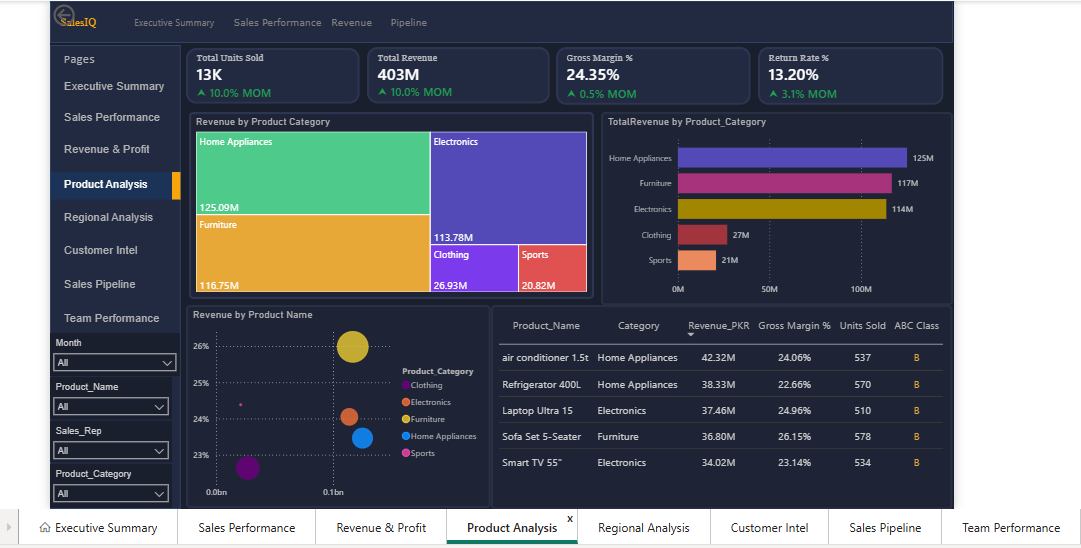

The page's visual inventory and layout, read from the dashboard file:
{"tool":"powerbi","page":{"name":"Product Analysis","canvas":[1280,720],"ordinal":3},"visuals":[{"type":"shape","box":[0,0,1279.8,59.5],"z":0,"group":"g10"},{"type":"shape","box":[0,62,185,657.6],"z":0,"group":"g9"},{"type":"cardVisual","title":"Total Revenue ","fields":{"Data":["Table1.Total Units Sold"]},"box":[192.8,66.6,246.6,79.4],"z":0},{"type":"actionButton","box":[0,103.3,185,39.4],"z":0,"group":"g1"},{"type":"actionButton","box":[0,146.7,185,39.4],"z":0,"group":"g2"},{"type":"actionButton","box":[0,192,186,37.3],"z":0,"group":"g3"},{"type":"actionButton","box":[0,242.2,185,39.4],"z":0,"group":"g4"},{"type":"actionButton","box":[0,289.4,185,39.4],"z":0,"group":"g5"},{"type":"actionButton","box":[0,336.2,185,39.4],"z":0,"group":"g6"},{"type":"actionButton","box":[0,383.7,185,39.4],"z":0,"group":"g8"},{"type":"actionButton","box":[0,431.3,185,39.4],"z":0,"group":"g7"},{"type":"actionButton","box":[109,6.9,134,45.8],"z":1000,"group":"g10"},{"type":"group","id":"g1","title":"Executive summary 1","box":[0,103.3,185,39.4],"z":1000,"group":"g9"},{"type":"slicer","fields":{"Values":["Calendar.Month"]},"box":[1169.3,219.7,86.5,48.2],"z":1000},{"type":"shape","box":[173,242.2,12,39.4],"z":1000,"group":"g4"},{"type":"actionButton","box":[255,6.9,135,45.8],"z":2000,"group":"g10"},{"type":"cardVisual","title":"Total Revenue ","fields":{"Data":["Table1.Total Revenue"]},"box":[449.3,65.2,259.4,80.8],"z":2000},{"type":"group","id":"g2","title":"Executive summary 1","box":[0,146.7,185,39.4],"z":2000,"group":"g9"},{"type":"actionButton","box":[390,6.9,76,45.8],"z":3000,"group":"g10"},{"type":"cardVisual","title":"Total Revenue ","fields":{"Data":["Table1.Return Rate %"]},"box":[1003,65,263,82.2],"z":3000},{"type":"group","id":"g3","title":"Executive summary 1","box":[0,192,186,37.3],"z":3000,"group":"g9"},{"type":"actionButton","box":[465.9,6.9,85,45.8],"z":4000,"group":"g10"},{"type":"cardVisual","title":"Total Revenue ","fields":{"Data":["Table1.Gross Margin %"]},"box":[717,65.2,276.4,82.2],"z":4000},{"type":"group","id":"g4","title":"Executive summary 1","box":[0,242.2,185,39.4],"z":4000,"group":"g9"},{"type":"treemap","title":"Revenue by Product Category","fields":{"Group":["Table1.Product_Category"],"Values":["Sum(Table1.Revenue_PKR)"]},"box":[197.5,157.1,573.7,265.2],"z":5000},{"type":"group","id":"g5","title":"Executive summary 1","box":[0,289.4,185,39.4],"z":5000,"group":"g9"},{"type":"group","id":"g6","title":"Executive summary 1","box":[0,336.2,185,39.4],"z":6000,"group":"g9"},{"type":"scatterChart","title":"Revenue by Product Name","fields":{"X":["Sum(Table1.Revenue_PKR)"],"Y":["Table1.Gross Margin %"],"Size":["Sum(Table1.Quantity)"],"Series":["Table1.Product_Category"]},"box":[193.2,431,432.4,288.3],"z":6000},{"type":"slicer","fields":{"Values":["Table1.Region"]},"box":[1097,3,172.9,48.2],"z":7000},{"type":"group","id":"g7","title":"Executive summary 1","box":[0,431.3,185,39.4],"z":7000,"group":"g9"},{"type":"slicer","fields":{"Values":["Table1.Product_Category"]},"box":[914.2,3,172.9,49.6],"z":8000},{"type":"group","id":"g8","title":"Executive summary 1","box":[0,383.7,185,39.4],"z":8000,"group":"g9"},{"type":"slicer","fields":{"Values":["Calendar.Month"]},"box":[725.7,3,172.9,49.6],"z":9000},{"type":"group","id":"g9","title":"1 side bar","box":[0,62,186,657.6],"z":10000},{"type":"group","id":"g10","title":"1 Header","box":[0,0,1280,59.1],"z":11000},{"type":"slicer","fields":{"Values":["Calendar.Month"]},"box":[0,470.6,184.3,60.9],"z":12000},{"type":"slicer","fields":{"Values":["Table1.Sales_Rep"]},"box":[0,595.3,172.9,58.1],"z":13000},{"type":"clusteredBarChart","fields":{"Category":["Table1.Product_Category"],"Y":["Sum(Table1.Revenue_PKR)"]},"box":[781.3,157.1,498.7,273.9],"z":14000},{"type":"slicer","fields":{"Values":["Table1.Product_Category"]},"box":[0,656.2,172.9,62.4],"z":15000},{"type":"actionButton","box":[0,0,100,40],"z":16000},{"type":"tableEx","fields":{"Values":["Table1.Product_Name","Table1.Product_Category","Sum(Table1.Revenue_PKR)","Table1.Gross Margin %","Table1.Total Units Sold","Table1.ABC Class"]},"box":[625.6,431,654.4,289.7],"z":17000},{"type":"slicer","fields":{"Values":["Table1.Product_Name"]},"box":[0,532.9,172.9,59.5],"z":18000}]}

Visuals, with their boxes on the page's 1280x720 design canvas (x1, y1, x2, y2). These are canvas units, not pixel positions in the 1081x548 screenshot, which may show the page scaled, cropped or inside an application window:
shape: locate(0, 0, 1280, 60)
shape: locate(0, 62, 185, 720)
"Total Revenue " cardVisual: locate(193, 67, 439, 146)
actionButton: locate(0, 103, 185, 143)
actionButton: locate(0, 147, 185, 186)
actionButton: locate(0, 192, 186, 229)
actionButton: locate(0, 242, 185, 282)
actionButton: locate(0, 289, 185, 329)
actionButton: locate(0, 336, 185, 376)
actionButton: locate(0, 384, 185, 423)
actionButton: locate(0, 431, 185, 471)
actionButton: locate(109, 7, 243, 53)
"Executive summary 1" group: locate(0, 103, 185, 143)
slicer - Calendar.Month: locate(1169, 220, 1256, 268)
shape: locate(173, 242, 185, 282)
actionButton: locate(255, 7, 390, 53)
"Total Revenue " cardVisual: locate(449, 65, 709, 146)
"Executive summary 1" group: locate(0, 147, 185, 186)
actionButton: locate(390, 7, 466, 53)
"Total Revenue " cardVisual: locate(1003, 65, 1266, 147)
"Executive summary 1" group: locate(0, 192, 186, 229)
actionButton: locate(466, 7, 551, 53)
"Total Revenue " cardVisual: locate(717, 65, 993, 147)
"Executive summary 1" group: locate(0, 242, 185, 282)
"Revenue by Product Category" treemap: locate(198, 157, 771, 422)
"Executive summary 1" group: locate(0, 289, 185, 329)
"Executive summary 1" group: locate(0, 336, 185, 376)
"Revenue by Product Name" scatterChart: locate(193, 431, 626, 719)
slicer - Table1.Region: locate(1097, 3, 1270, 51)
"Executive summary 1" group: locate(0, 431, 185, 471)
slicer - Table1.Product_Category: locate(914, 3, 1087, 53)
"Executive summary 1" group: locate(0, 384, 185, 423)
slicer - Calendar.Month: locate(726, 3, 899, 53)
"1 side bar" group: locate(0, 62, 186, 720)
"1 Header" group: locate(0, 0, 1280, 59)
slicer - Calendar.Month: locate(0, 471, 184, 532)
slicer - Table1.Sales_Rep: locate(0, 595, 173, 653)
clusteredBarChart - Table1.Product_Category x Sum(Table1.Revenue_PKR): locate(781, 157, 1280, 431)
slicer - Table1.Product_Category: locate(0, 656, 173, 719)
actionButton: locate(0, 0, 100, 40)
tableEx - Table1.Product_Name x Table1.Product_Category: locate(626, 431, 1280, 721)
slicer - Table1.Product_Name: locate(0, 533, 173, 592)
